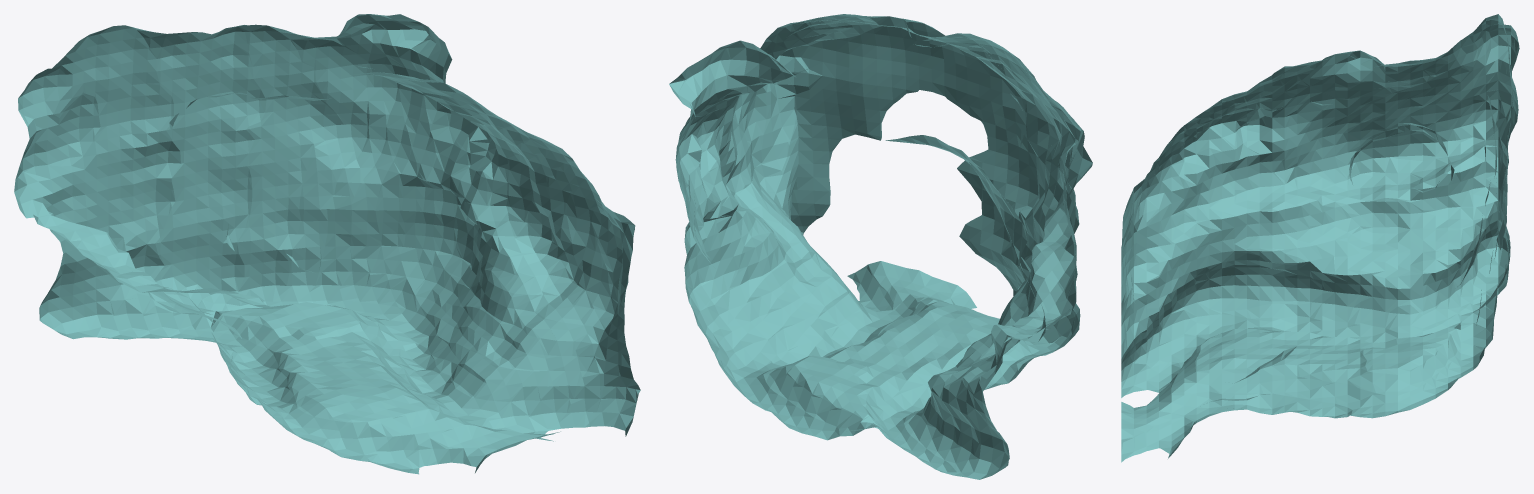
File: 050__RH_Per_S_PtD__full_20fps__surface.glb
The picture shows the model from 3 angles, left to right: view 1: azimuth 30°, elevation 25°; view 2: azimuth 150°, elevation 25°; view 3: azimuth 270°, elevation 25°; orthographic projection. The views are drawn at different scales.
Visible parts, largest first — view 1: world; view 2: world; view 3: world.
Boxes of the visible parts, x1,y1,x2,y2 form: world: (14, 14, 640, 474); world: (669, 14, 1092, 479); world: (1121, 14, 1519, 462).
Size of the model in its own units: 149 by 110 by 127.
